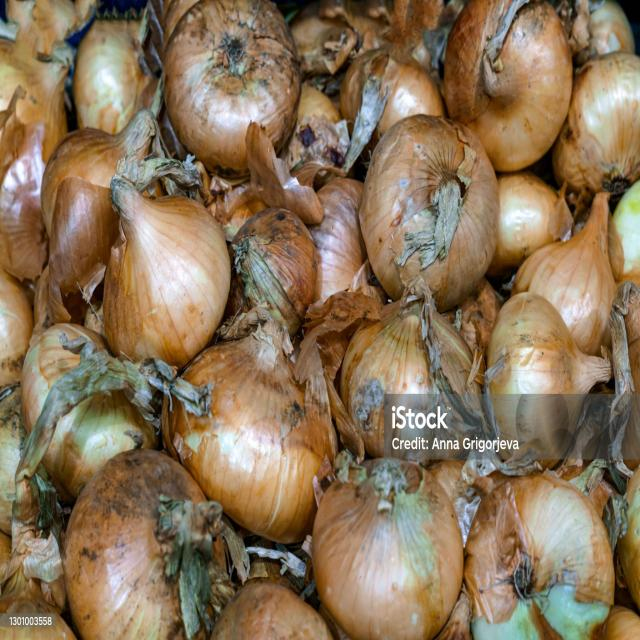rotten: (163, 310, 339, 542), (62, 450, 227, 638), (103, 158, 231, 372), (459, 472, 616, 636), (318, 468, 459, 638), (20, 326, 154, 503), (346, 292, 478, 459), (484, 292, 616, 459), (452, 3, 573, 172), (173, 14, 296, 156), (512, 192, 618, 354), (552, 52, 638, 204), (222, 206, 318, 340), (46, 176, 117, 326), (0, 114, 60, 283), (1, 38, 70, 178), (300, 1, 413, 86), (306, 179, 370, 310), (74, 24, 148, 134), (484, 173, 560, 280), (42, 129, 122, 230), (374, 59, 446, 140), (427, 147, 489, 237), (3, 0, 83, 62), (436, 455, 494, 539), (0, 252, 36, 386), (0, 389, 29, 536), (0, 586, 76, 640), (339, 47, 388, 126), (580, 1, 636, 58), (0, 38, 34, 125), (160, 0, 210, 45), (315, 177, 365, 220)
